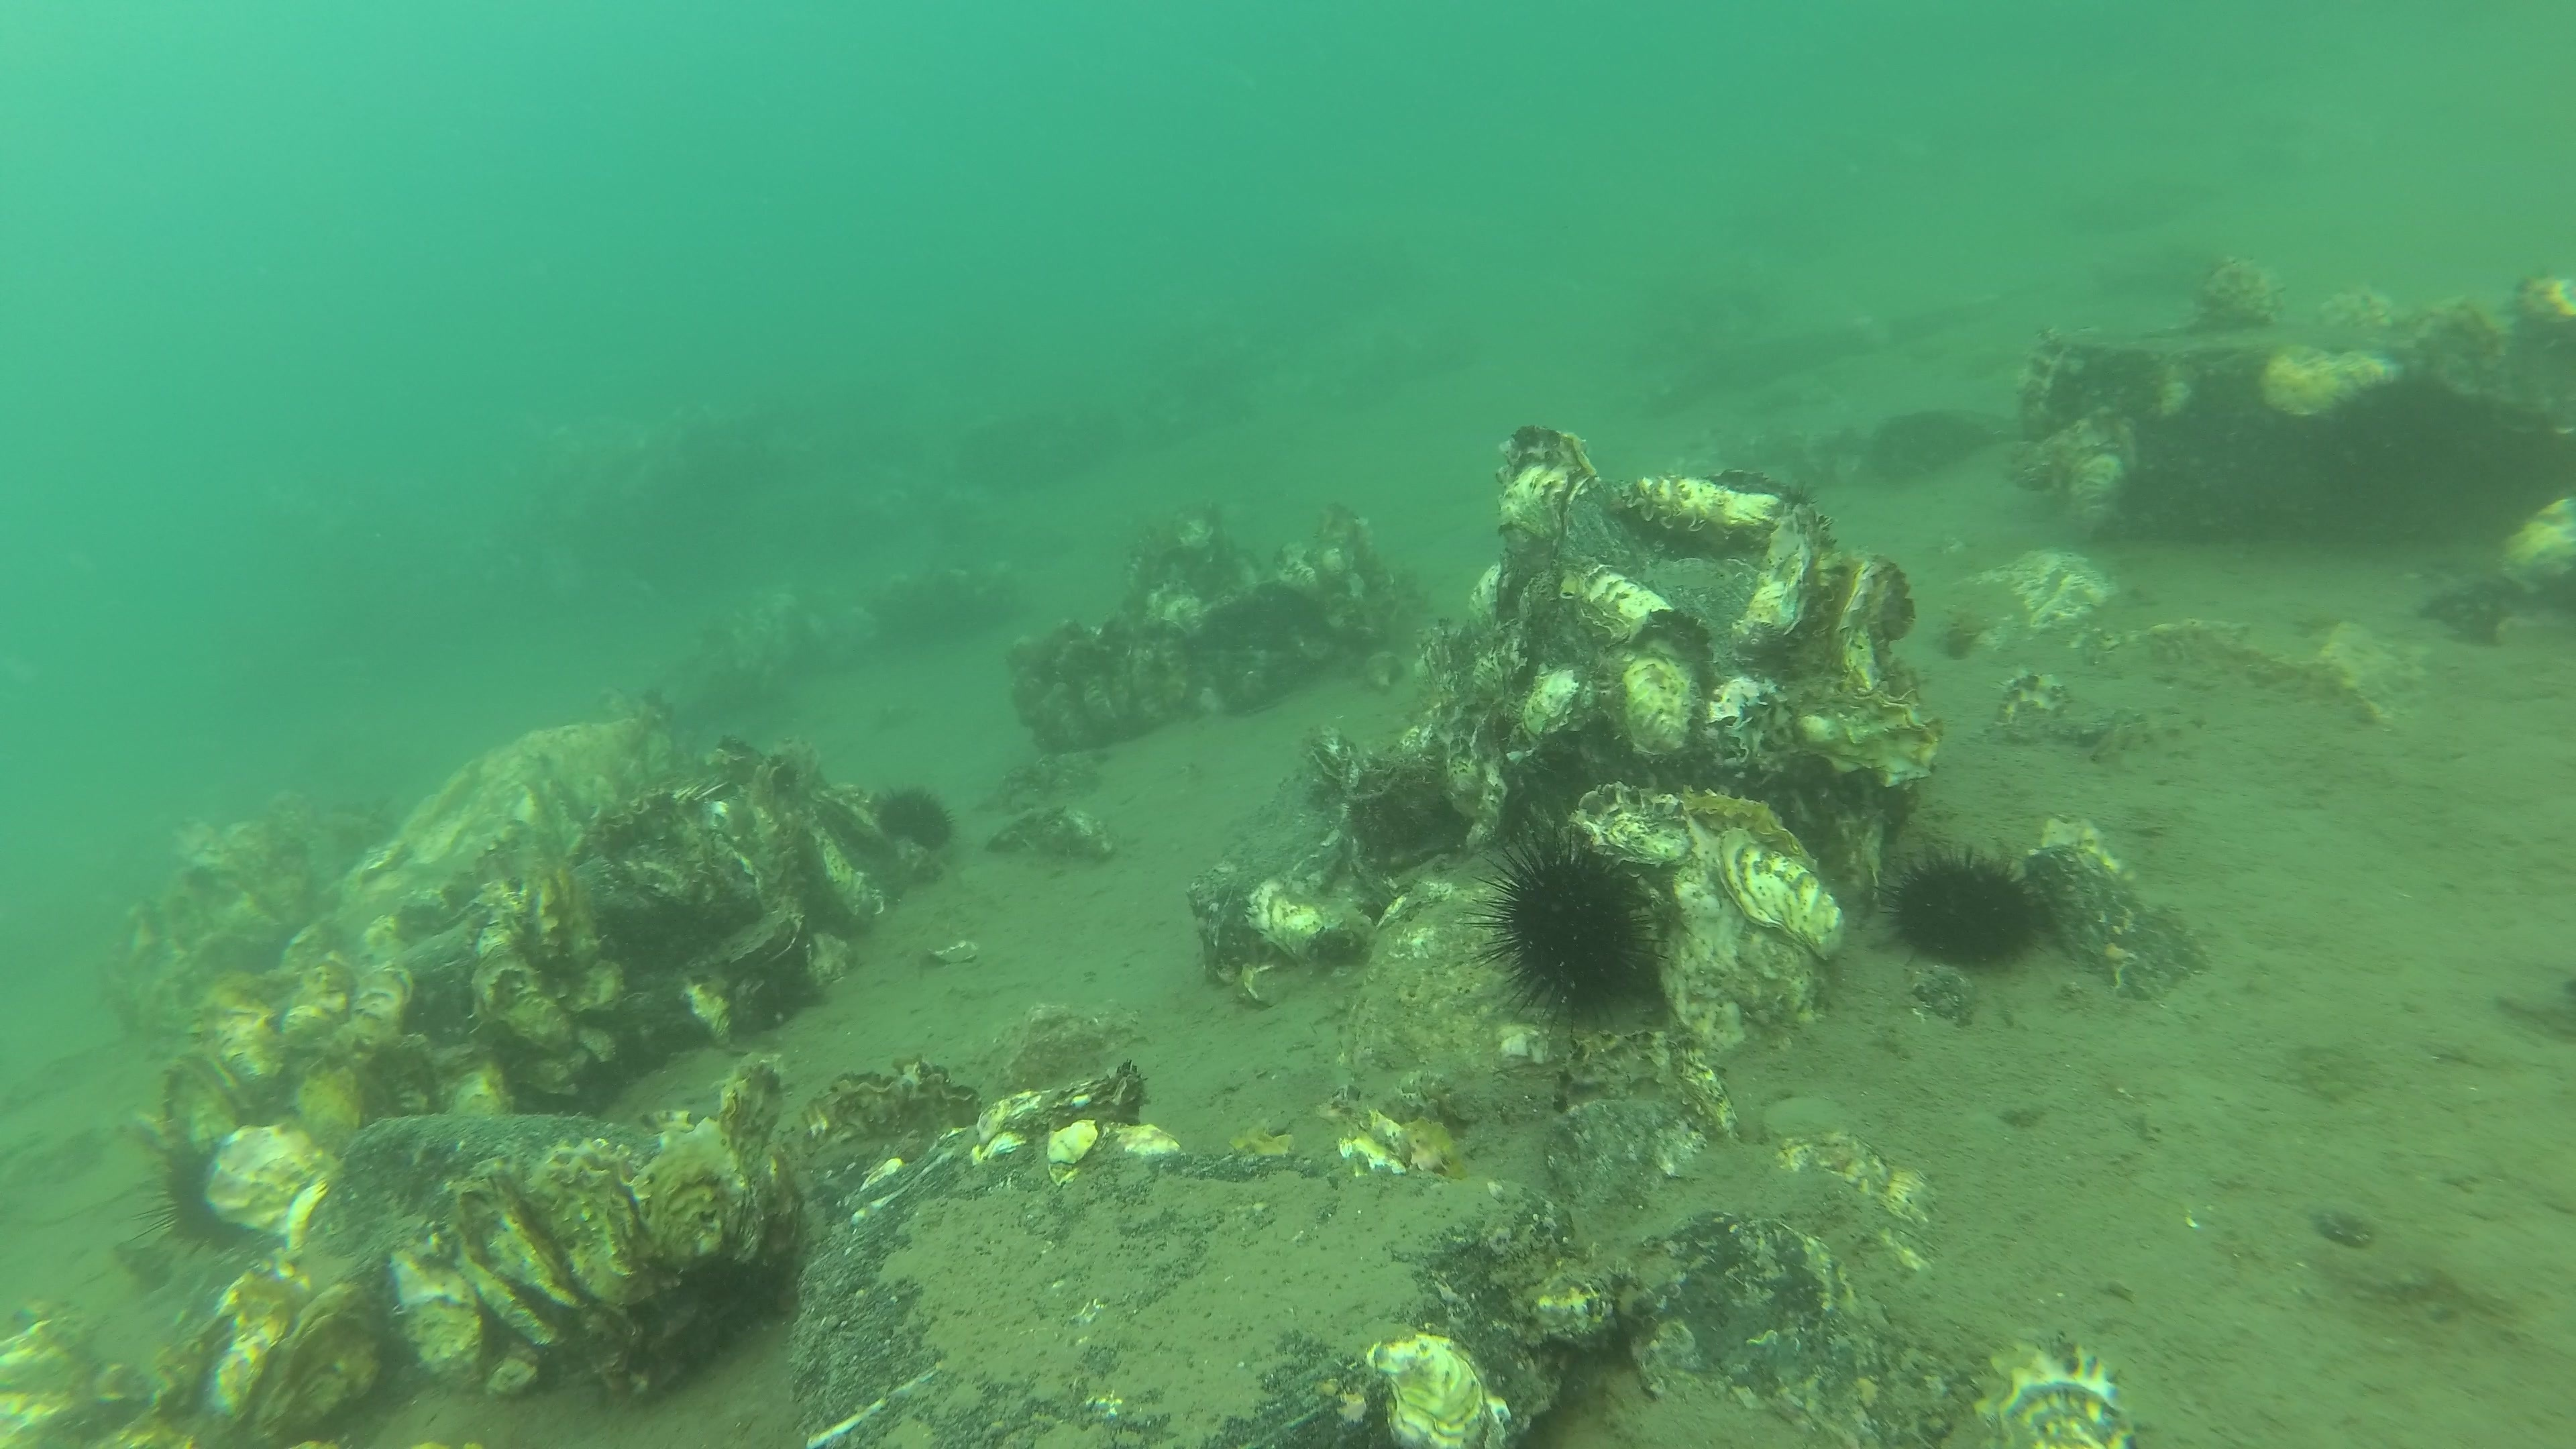echinus: (1456, 821, 1672, 1039), (1870, 839, 2054, 971), (2330, 363, 2493, 495), (127, 1131, 246, 1263), (1338, 789, 1438, 858), (878, 780, 959, 853)
